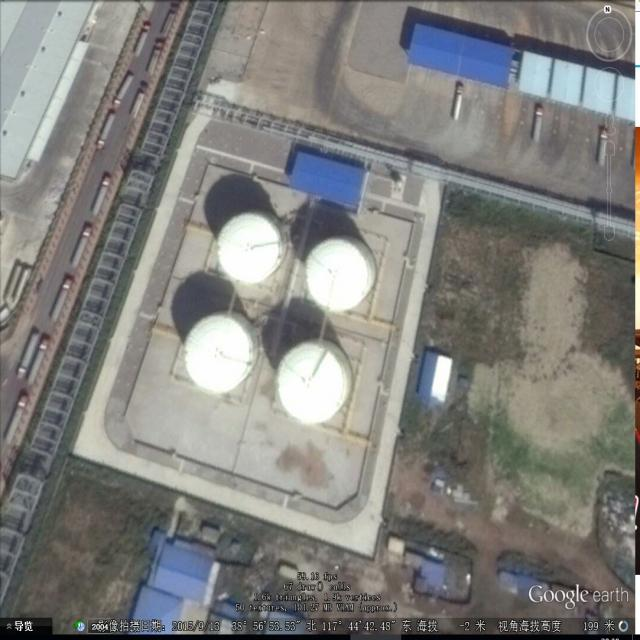oiltank: (181, 307, 263, 400), (275, 335, 353, 426), (301, 232, 380, 318), (213, 205, 291, 289)
